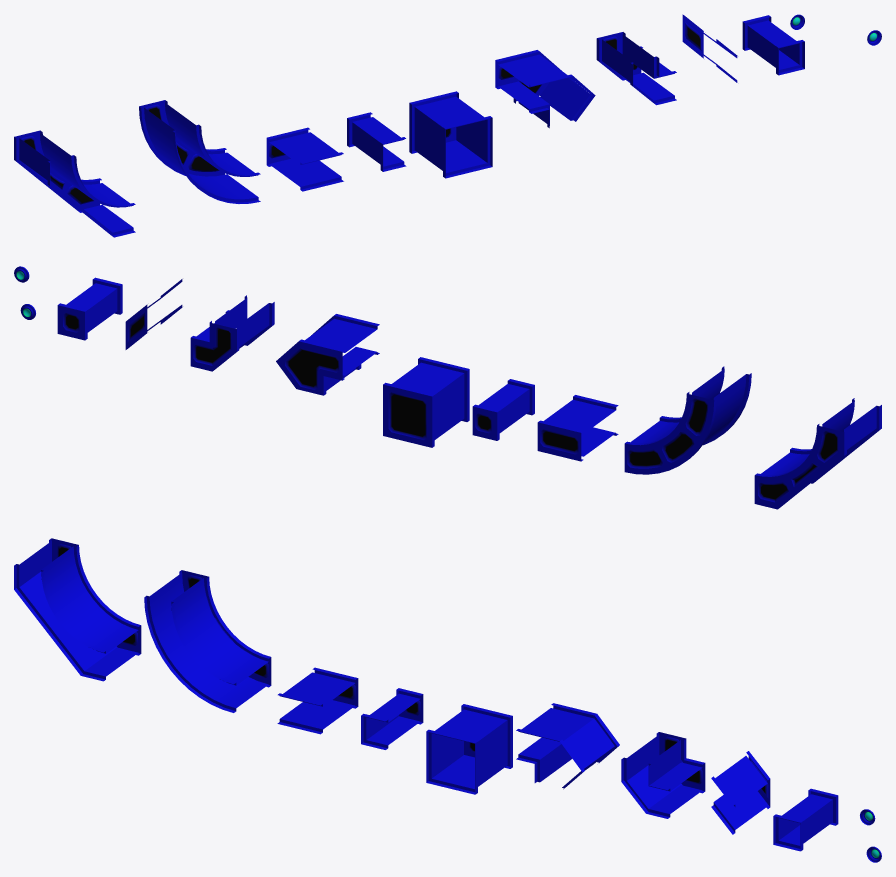
The model's file is BJ_Plat_ChamferGrid_Plats.fbx.
The picture shows the model from 3 angles, top to bottom: view 1: azimuth 30°, elevation 25°; view 2: azimuth 150°, elevation 25°; view 3: azimuth 330°, elevation 25°; orthographic projection. The views are drawn at different scales.
Parts seen in each view (by area): view 1: Curve_Smooth_4x4, Block_2x2, Curve_Edgy_4x4, Corner_Hook_3x2, Straight_2x1, Corner_2x2, Block_1x1, Cap_1x1, Diagonal_1x2; view 2: Curve_Smooth_4x4, Block_2x2, Curve_Edgy_4x4, Corner_Hook_3x2, Straight_2x1, Corner_2x2, Block_1x1, Cap_1x1, Diagonal_1x2; view 3: Curve_Smooth_4x4, Curve_Edgy_4x4, Block_2x2, Corner_2x2, Corner_Hook_3x2, Straight_2x1, Diagonal_1x2, Block_1x1, Cap_1x1.
Boxes of the visible parts, x1,y1,x2,y2 form: Curve_Smooth_4x4: [139, 100, 260, 203]; Block_2x2: [409, 91, 492, 178]; Curve_Edgy_4x4: [14, 130, 135, 237]; Corner_Hook_3x2: [495, 50, 595, 128]; Straight_2x1: [266, 127, 343, 191]; Corner_2x2: [596, 32, 676, 105]; Block_1x1: [742, 15, 804, 75]; Cap_1x1: [347, 112, 406, 171]; Diagonal_1x2: [682, 14, 737, 82]; Curve_Smooth_4x4: [624, 366, 751, 474]; Block_2x2: [383, 357, 469, 447]; Curve_Edgy_4x4: [754, 398, 881, 509]; Corner_Hook_3x2: [276, 314, 379, 395]; Straight_2x1: [537, 395, 618, 461]; Corner_2x2: [190, 295, 274, 371]; Block_1x1: [57, 277, 122, 340]; Cap_1x1: [472, 379, 534, 440]; Diagonal_1x2: [125, 279, 182, 349]; Curve_Smooth_4x4: [144, 570, 271, 712]; Curve_Edgy_4x4: [14, 538, 141, 681]; Block_2x2: [426, 704, 512, 794]; Corner_2x2: [621, 732, 705, 818]; Corner_Hook_3x2: [516, 703, 619, 789]; Straight_2x1: [277, 667, 358, 734]; Diagonal_1x2: [711, 751, 770, 834]; Block_1x1: [773, 788, 838, 851]; Cap_1x1: [361, 688, 423, 749].
Bounding box in the file's own units: 39.97 × 5.13 × 3.07.
